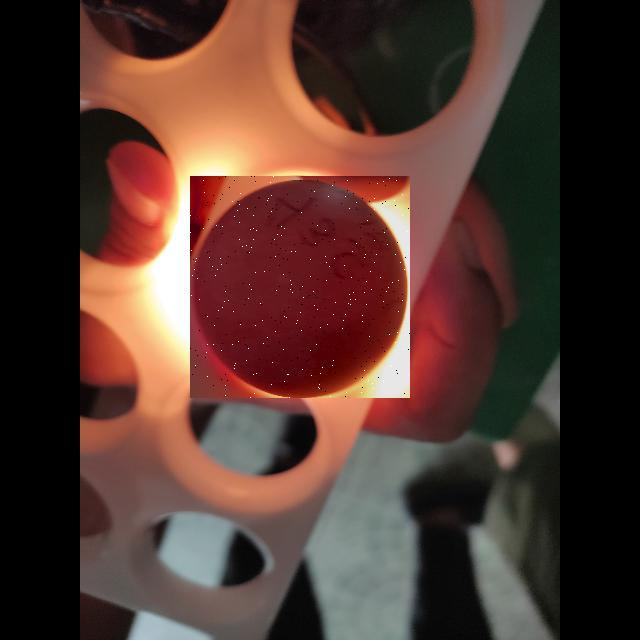Fertile: (190, 176, 410, 398)
